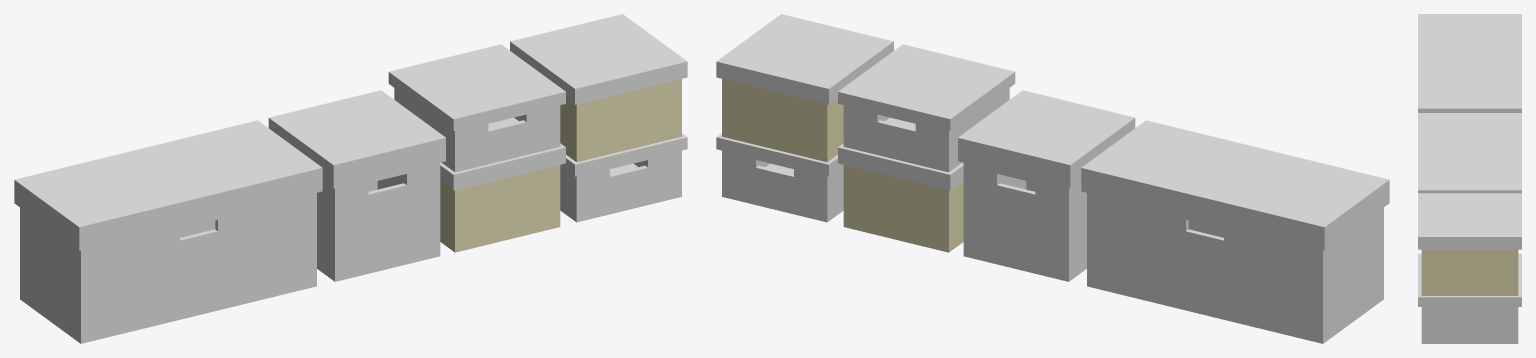
The model's file is shelf_box_export.fbx.
3 renders of one model, left to right at view 1: azimuth 30°, elevation 25°; view 2: azimuth 150°, elevation 25°; view 3: azimuth 270°, elevation 25°, orthographic. The views are drawn at different scales.
Parts seen in each view (by area): view 1: Cube.006, Cube.005, Cube, Cube.002, Cube.001, Cube.008, Cube.010, Cube.003, Cube.004, Cube.009, Cube.011, Cube.007; view 2: Cube.006, Cube.005, Cube, Cube.002, Cube.001, Cube.008, Cube.010, Cube.003, Cube.004, Cube.009, Cube.011, Cube.007; view 3: Cube.005, Cube.001, Cube.008, Cube.003, Cube.004, Cube.002, Cube.007.
Part boxes in pixels (bbox=[...]): Cube.006: bbox=[20, 193, 316, 343]; Cube.005: bbox=[14, 120, 322, 250]; Cube: bbox=[317, 163, 440, 281]; Cube.002: bbox=[268, 90, 445, 188]; Cube.001: bbox=[510, 14, 687, 104]; Cube.008: bbox=[388, 44, 565, 130]; Cube.010: bbox=[440, 165, 560, 252]; Cube.003: bbox=[560, 79, 681, 162]; Cube.004: bbox=[560, 150, 681, 222]; Cube.009: bbox=[394, 88, 560, 172]; Cube.011: bbox=[440, 117, 565, 190]; Cube.007: bbox=[560, 133, 687, 176]; Cube.006: bbox=[1087, 193, 1383, 343]; Cube.005: bbox=[1081, 120, 1389, 250]; Cube: bbox=[963, 163, 1086, 281]; Cube.002: bbox=[958, 90, 1135, 188]; Cube.001: bbox=[716, 14, 893, 104]; Cube.008: bbox=[838, 44, 1015, 130]; Cube.010: bbox=[843, 165, 963, 252]; Cube.003: bbox=[722, 79, 843, 162]; Cube.004: bbox=[722, 150, 843, 222]; Cube.009: bbox=[843, 88, 1009, 172]; Cube.011: bbox=[838, 117, 963, 190]; Cube.007: bbox=[716, 133, 843, 176]; Cube.005: bbox=[1418, 14, 1521, 112]; Cube.001: bbox=[1418, 193, 1521, 249]; Cube.008: bbox=[1418, 146, 1521, 193]; Cube.003: bbox=[1421, 249, 1518, 295]; Cube.004: bbox=[1421, 307, 1518, 343]; Cube.002: bbox=[1418, 113, 1521, 146]; Cube.007: bbox=[1418, 253, 1521, 306].
Bounding box in the file's own units: 289 × 61.89 × 53.45.
